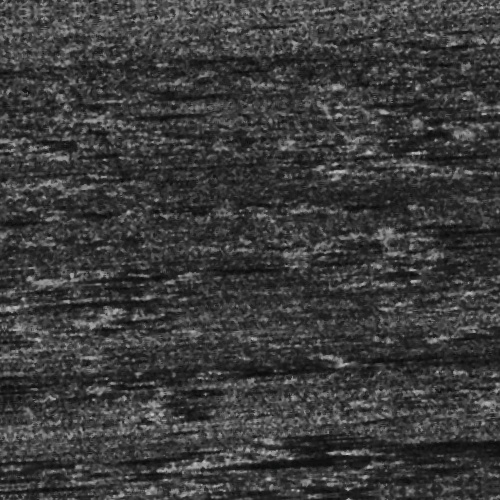object: (122, 455, 237, 470), (0, 263, 127, 274), (104, 84, 157, 95), (88, 104, 151, 111), (0, 290, 58, 297), (310, 451, 373, 456)
shadow: (179, 455, 495, 470), (59, 263, 251, 274), (130, 84, 212, 95), (341, 451, 500, 456), (12, 290, 121, 297), (120, 104, 201, 111)
